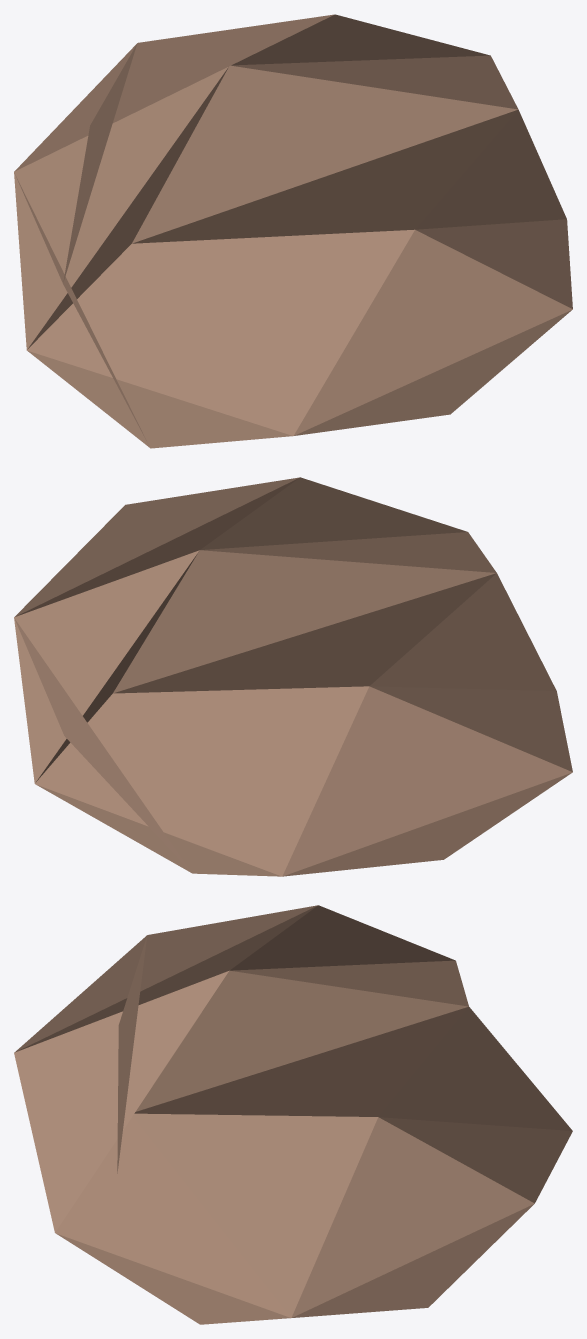
Rendered from rock_3.glb.
3 renders of one model, top to bottom at view 1: azimuth 30°, elevation 25°; view 2: azimuth 150°, elevation 25°; view 3: azimuth 270°, elevation 25°, orthographic. The views are drawn at different scales.
Size of the model in its own units: 3.06 by 2.16 by 3.02.
